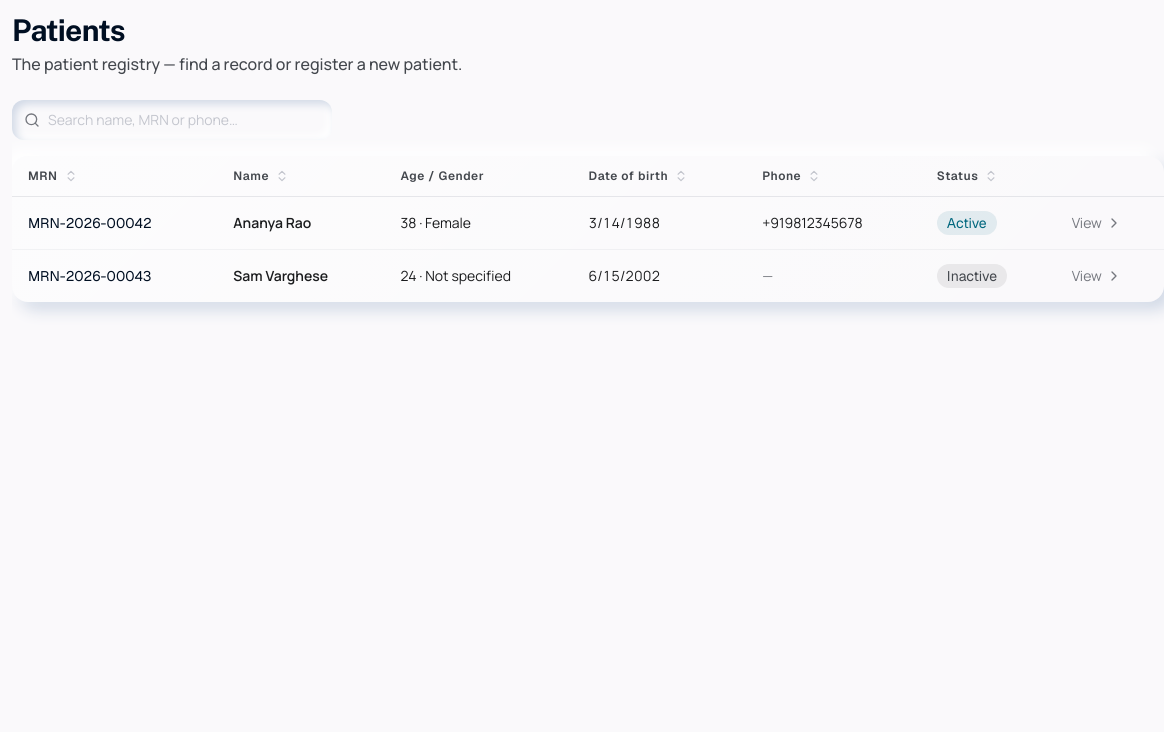
Test: PatientsPage › explains an empty search result differently from an empty registry
The image size is (1164, 732).
expect the text "Ananya Rao" is shown: met, box top-left (233, 213), bottom-right (311, 232)
Type "zzz" into the field labelled "Search name, MRN or phone…" at {"x": 172, "y": 120}, box top-left (12, 100), bottom-right (332, 140)
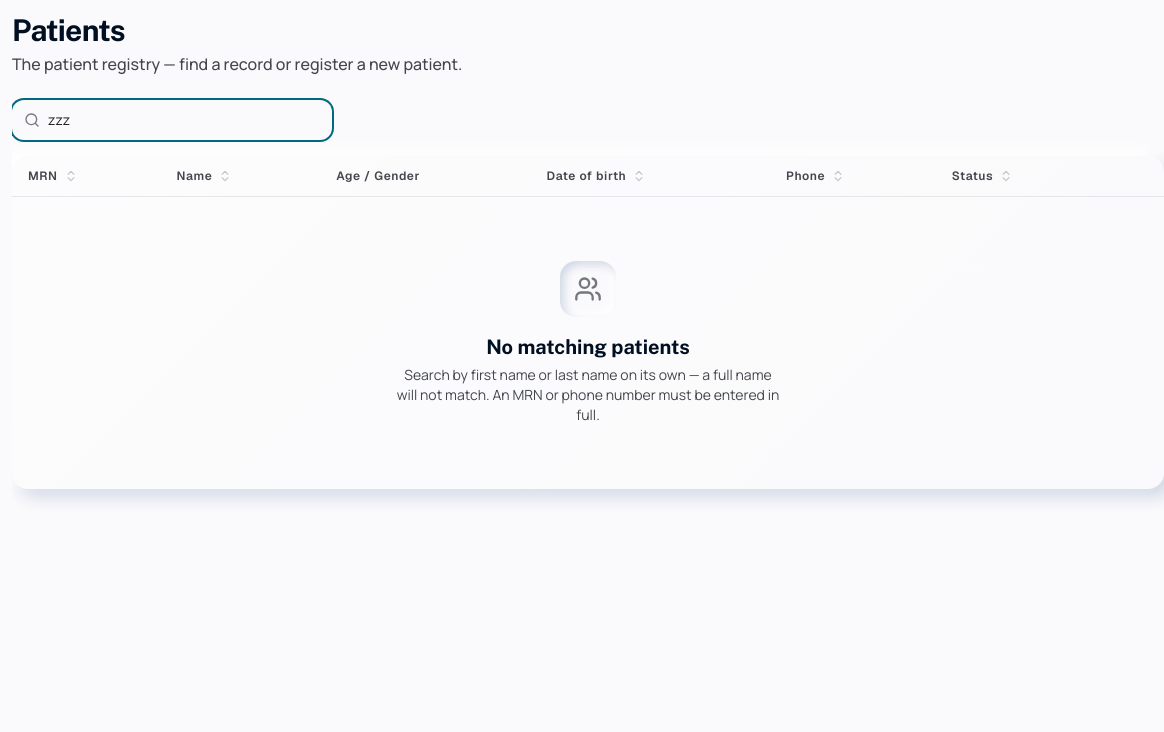
expect the text "No matching patients" is shown: met, box top-left (486, 335), bottom-right (690, 359)
